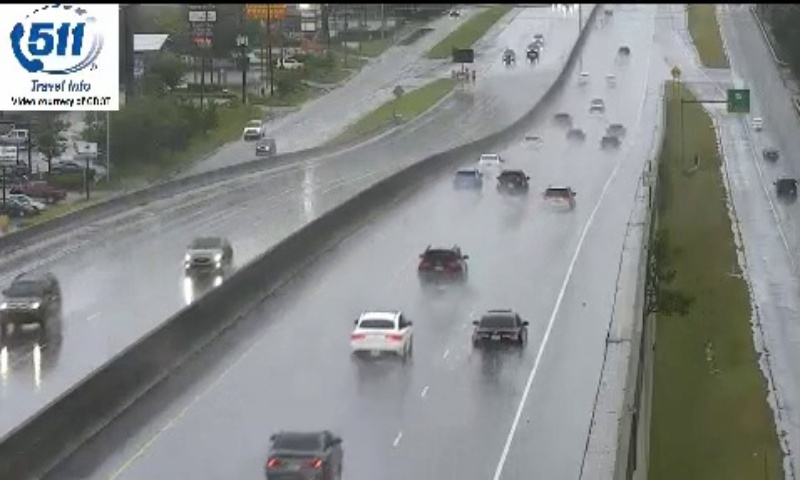car: (267, 428, 343, 480), (351, 310, 411, 356), (471, 312, 525, 352), (418, 243, 466, 283), (495, 169, 527, 198), (542, 184, 575, 211), (453, 167, 482, 190), (478, 152, 502, 175)
